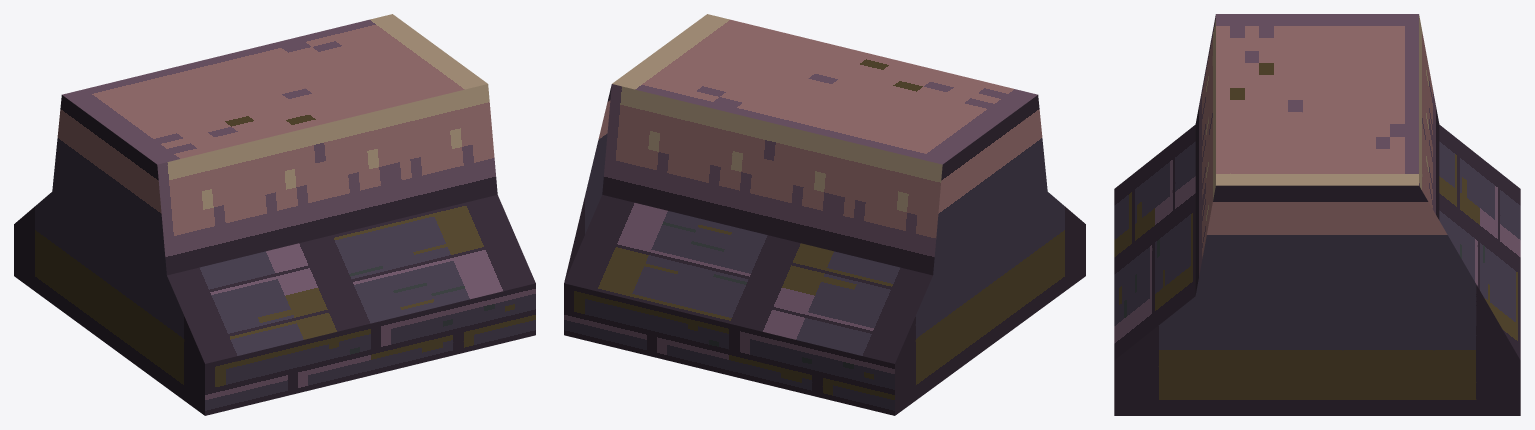
The model's file is barrier.glb.
3 renders of one model, left to right at view 1: azimuth 30°, elevation 25°; view 2: azimuth 150°, elevation 25°; view 3: azimuth 270°, elevation 25°, orthographic. The views are drawn at different scales.
Parts seen in each view (by area): view 1: barrier; view 2: barrier; view 3: barrier.
Part boxes in pixels (x1=…): barrier: x1=14, y1=14, x2=535, y2=415; barrier: x1=564, y1=14, x2=1085, y2=415; barrier: x1=1114, y1=14, x2=1520, y2=415.
Bounding box in the file's own units: 0.8 × 0.5 × 0.8.
1 material, 1 textured.
